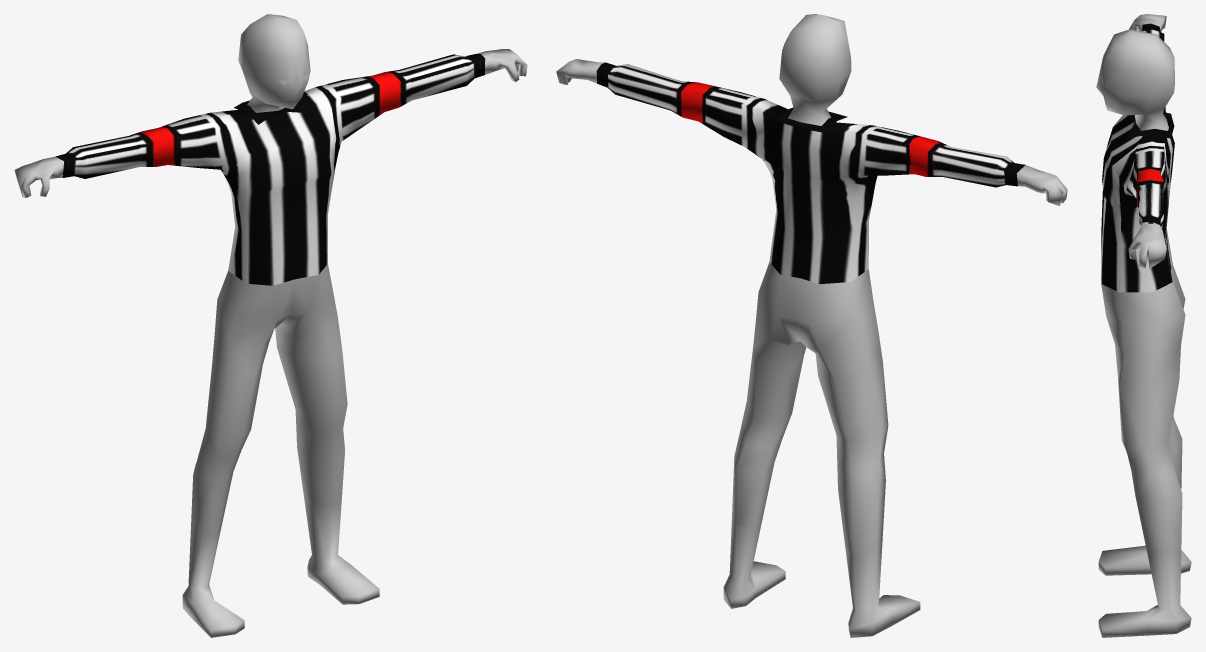
Rendered from Male_Refree.obj.
3 renders of one model, left to right at view 1: azimuth 30°, elevation 25°; view 2: azimuth 150°, elevation 25°; view 3: azimuth 270°, elevation 25°, orthographic. The views are drawn at different scales.
Visible parts, largest first — view 1: Refree_Tshirt_Cube.001, Male_Legs_Cube.000, Male_Feet_Cube.004, Male_Head_Cube.003, Male_Hands_Cube.005; view 2: Refree_Tshirt_Cube.001, Male_Legs_Cube.000, Male_Feet_Cube.004, Male_Head_Cube.003, Male_Hands_Cube.005; view 3: Male_Legs_Cube.000, Refree_Tshirt_Cube.001, Male_Head_Cube.003, Male_Feet_Cube.004, Male_Hands_Cube.005.
Part boxes in pixels (<box>): Refree_Tshirt_Cube.001: <box>55,54,485,285</box>; Male_Legs_Cube.000: <box>190,264,347,536</box>; Male_Feet_Cube.004: <box>182,501,379,637</box>; Male_Head_Cube.003: <box>238,14,310,112</box>; Male_Hands_Cube.005: <box>14,49,527,197</box>; Refree_Tshirt_Cube.001: <box>596,62,1025,284</box>; Male_Legs_Cube.000: <box>732,262,888,554</box>; Male_Feet_Cube.004: <box>723,516,920,637</box>; Male_Head_Cube.003: <box>779,14,851,125</box>; Male_Hands_Cube.005: <box>556,59,1067,206</box>; Male_Legs_Cube.000: <box>1101,264,1185,554</box>; Refree_Tshirt_Cube.001: <box>1101,23,1174,292</box>; Male_Head_Cube.003: <box>1096,29,1174,130</box>; Male_Feet_Cube.004: <box>1098,545,1191,637</box>; Male_Hands_Cube.005: <box>1128,14,1166,268</box>.
Size of the model in its own units: 6.31 by 7.05 by 1.07.
